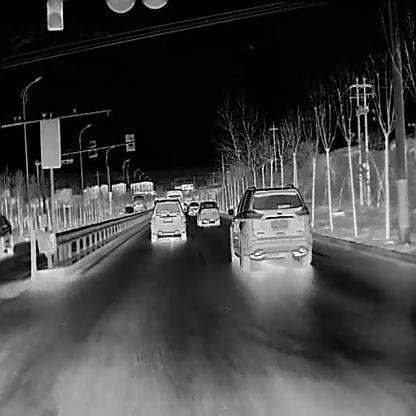bus: (165, 188, 184, 212)
car: (227, 181, 312, 269), (149, 197, 186, 243), (194, 198, 219, 226), (187, 199, 199, 215), (124, 205, 132, 216)
truck: (130, 193, 146, 216)
